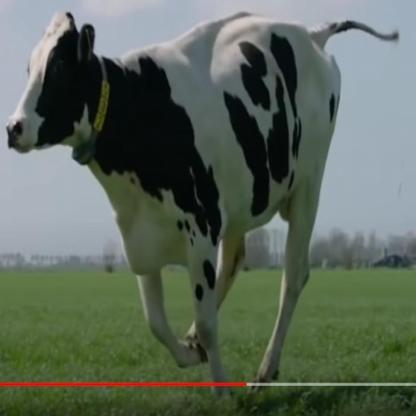cow: (6, 17, 342, 397)
